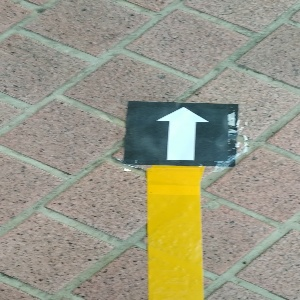straight: (125, 101, 236, 165)
